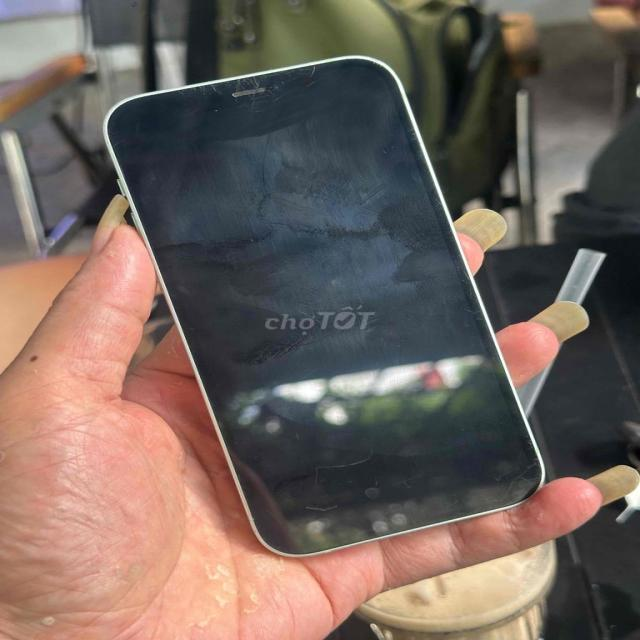gen_12_13: (95, 49, 556, 559)
physical_damage: (272, 384, 542, 535), (164, 68, 352, 128)
